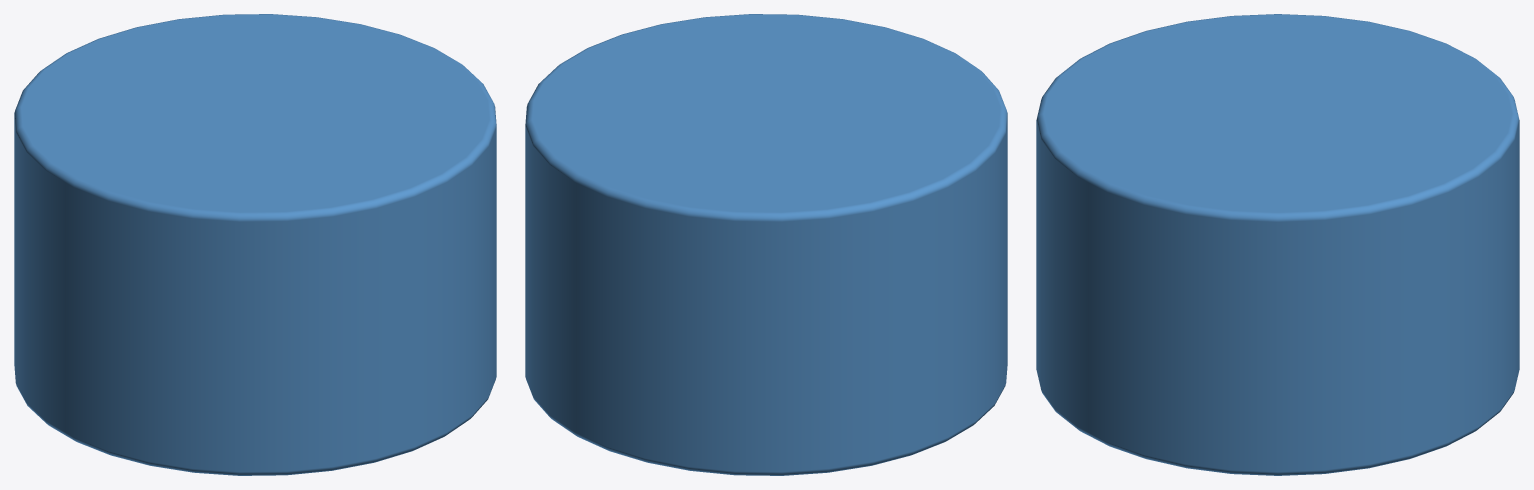
File: scene_anim.glb
The picture shows the model from 3 angles, left to right: view 1: azimuth 30°, elevation 25°; view 2: azimuth 150°, elevation 25°; view 3: azimuth 270°, elevation 25°; orthographic projection.
Visible parts, largest first — view 1: product_body; view 2: product_body; view 3: product_body.
Boxes of the visible parts, box(x1,y1,x2,y2) form: product_body: box(14, 14, 496, 475); product_body: box(525, 14, 1007, 475); product_body: box(1036, 14, 1519, 475).
Size of the model in its own units: 2 by 1.2 by 2.
